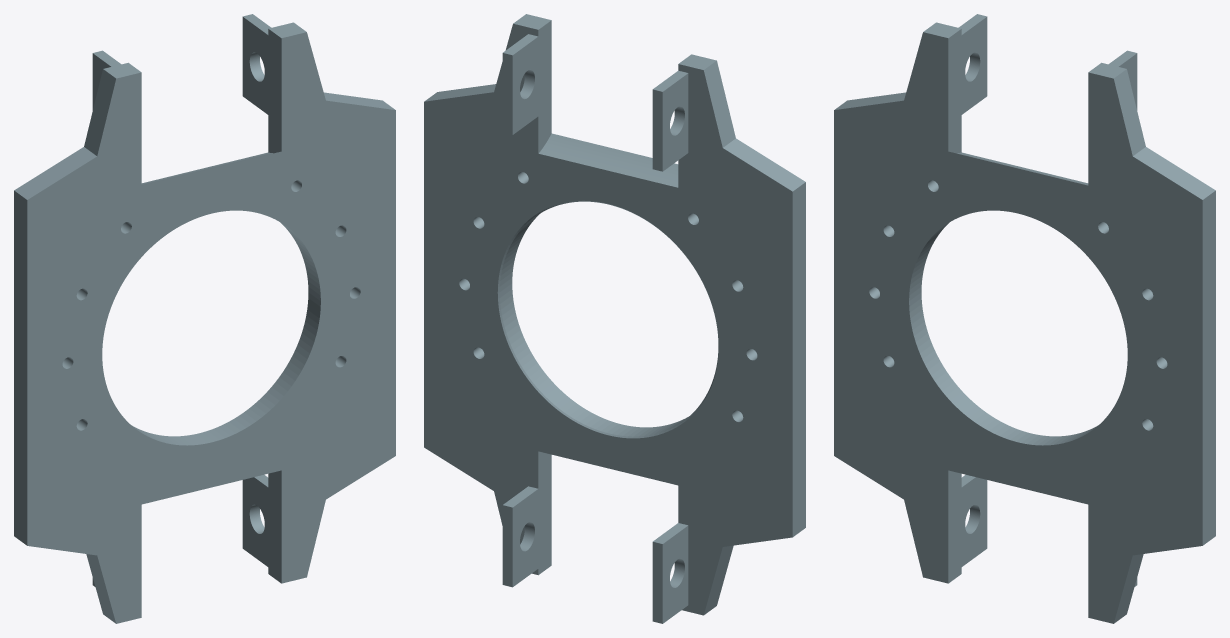
Rendered from upright_WD220_C02_R05.glb.
3 views of the same model, side by side, from view 1: azimuth 30°, elevation 25°; view 2: azimuth 150°, elevation 25°; view 3: azimuth 330°, elevation 25° (orthographic).
Parts seen in each view (by area): view 1: upright_WD220_C02_R05; view 2: upright_WD220_C02_R05; view 3: upright_WD220_C02_R05.
Boxes of the visible parts, x1,y1,x2,y2 form: upright_WD220_C02_R05: (14, 14, 395, 623); upright_WD220_C02_R05: (424, 14, 805, 623); upright_WD220_C02_R05: (834, 14, 1215, 623).
Bounding box in the file's own units: 0.29 × 0.41 × 0.053.
